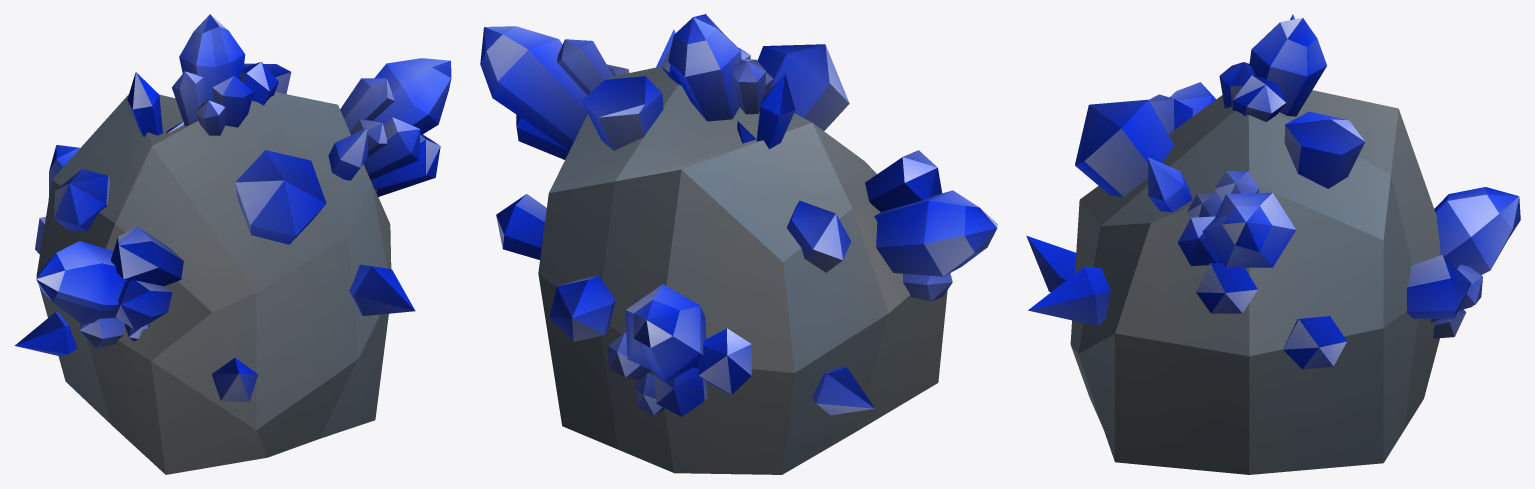
File: Mine_V3.fbx
The picture shows the model from 3 angles, left to right: view 1: azimuth 30°, elevation 25°; view 2: azimuth 150°, elevation 25°; view 3: azimuth 270°, elevation 25°; orthographic projection. The views are drawn at different scales.
Visible parts, largest first — view 1: Diamond; view 2: Diamond; view 3: Diamond.
Boxes of the visible parts, x1=… form: Diamond: x1=15, y1=14, x2=451, y2=474; Diamond: x1=480, y1=14, x2=997, y2=474; Diamond: x1=1026, y1=14, x2=1520, y2=474.
Bounding box in the file's own units: 418 × 332 × 369.
